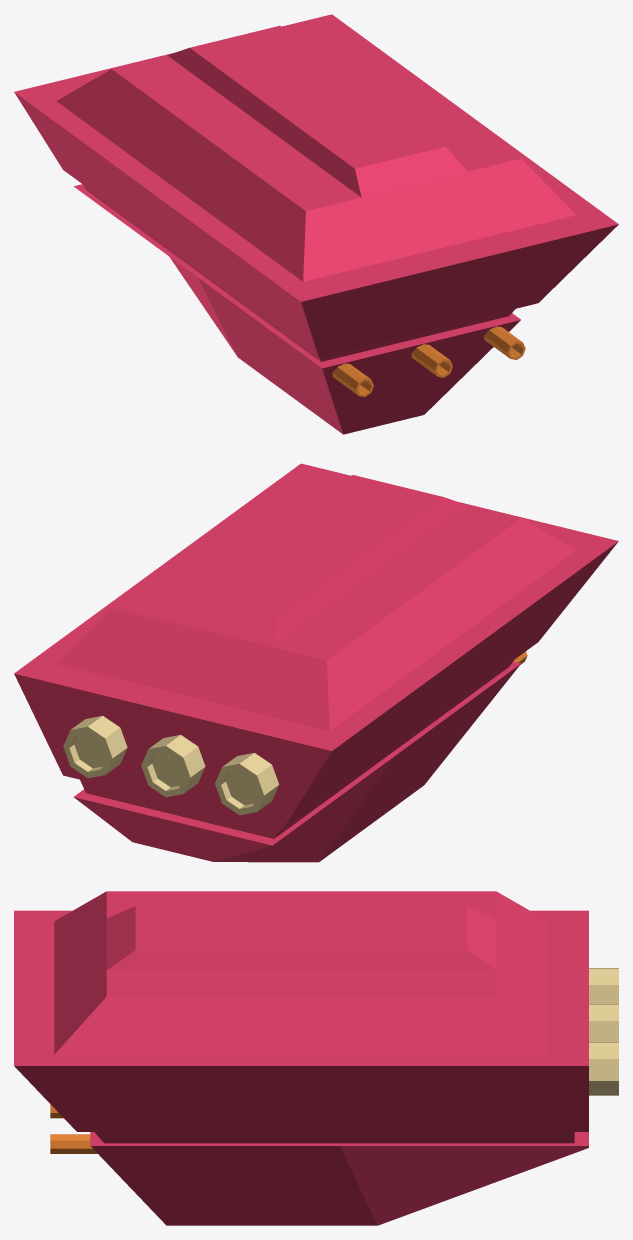
File: enemy_ship2.glb
3 renders of one model, top to bottom at view 1: azimuth 30°, elevation 25°; view 2: azimuth 150°, elevation 25°; view 3: azimuth 270°, elevation 25°, orthographic.
Parts seen in each view (by area): view 1: Enemy_Ship2, Cylinder.005, Cylinder.003, Cylinder.004; view 2: Enemy_Ship2, Cylinder.002, Cylinder, Cylinder.001; view 3: Enemy_Ship2, Cylinder, Cylinder.001, Cylinder.002, Cylinder.004.
Part boxes in pixels (bbox=[...]): Enemy_Ship2: bbox=[14, 14, 618, 434]; Cylinder.005: bbox=[411, 344, 452, 377]; Cylinder.003: bbox=[332, 363, 373, 396]; Cylinder.004: bbox=[484, 326, 525, 359]; Enemy_Ship2: bbox=[14, 463, 618, 862]; Cylinder.002: bbox=[215, 753, 279, 815]; Cylinder: bbox=[63, 716, 127, 778]; Cylinder.001: bbox=[141, 735, 205, 797]; Enemy_Ship2: bbox=[14, 891, 588, 1225]; Cylinder: bbox=[589, 1042, 618, 1095]; Cylinder.001: bbox=[589, 1004, 618, 1041]; Cylinder.002: bbox=[589, 968, 618, 1003]; Cylinder.004: bbox=[50, 1134, 97, 1153].
Bounding box in the file's own units: 7.86 × 6.57 × 12.93.
